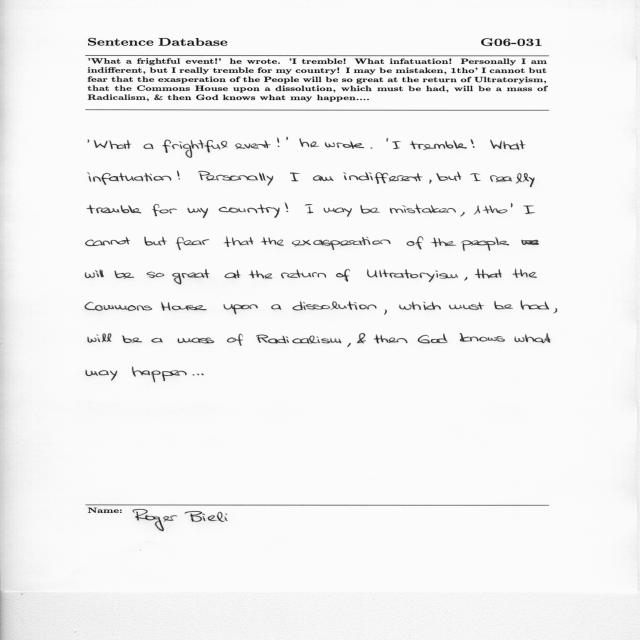word: (292, 237, 391, 250), (162, 139, 228, 158), (367, 269, 458, 282), (198, 171, 273, 186), (88, 172, 172, 185), (461, 237, 539, 251), (343, 172, 423, 184), (219, 204, 280, 218), (256, 334, 341, 344), (293, 301, 377, 311), (390, 204, 456, 214), (490, 173, 534, 187), (85, 302, 152, 311), (410, 140, 467, 150), (172, 269, 210, 284), (87, 205, 141, 214), (474, 203, 513, 215), (132, 367, 161, 382), (176, 237, 209, 250), (161, 302, 207, 311), (162, 370, 199, 381), (86, 237, 131, 246), (281, 270, 326, 279), (460, 333, 505, 342), (514, 333, 551, 343), (490, 140, 526, 150), (223, 304, 258, 314), (399, 302, 441, 310), (94, 140, 131, 149), (235, 140, 271, 149), (325, 141, 364, 149), (86, 370, 117, 380), (152, 204, 177, 216), (224, 237, 254, 247), (418, 334, 448, 344), (374, 335, 407, 344), (449, 302, 484, 310), (521, 300, 549, 310), (323, 208, 352, 217), (474, 269, 502, 278), (431, 237, 456, 247), (88, 333, 112, 343), (436, 172, 461, 181), (512, 269, 537, 278), (407, 237, 424, 250), (249, 270, 273, 279), (178, 338, 214, 344), (187, 208, 208, 218), (227, 333, 243, 346), (144, 237, 167, 246), (261, 237, 284, 246), (300, 138, 320, 147), (360, 205, 380, 214), (85, 270, 104, 279), (494, 301, 513, 310), (336, 269, 350, 281), (115, 271, 135, 279), (122, 335, 142, 343), (224, 270, 241, 278), (147, 271, 165, 278), (313, 175, 333, 181), (523, 205, 535, 214), (290, 173, 300, 182), (357, 333, 366, 343), (470, 173, 481, 181), (305, 204, 313, 214), (392, 141, 401, 149), (144, 144, 154, 150), (271, 304, 281, 310), (151, 338, 163, 342), (471, 139, 475, 148), (285, 203, 289, 212), (277, 138, 280, 147), (177, 171, 180, 180), (460, 212, 465, 217), (554, 308, 558, 313), (347, 343, 351, 347), (429, 179, 432, 184), (384, 310, 387, 315), (464, 277, 467, 281), (286, 137, 288, 140), (201, 374, 204, 376), (88, 139, 89, 143), (371, 147, 373, 149), (387, 138, 388, 142)
